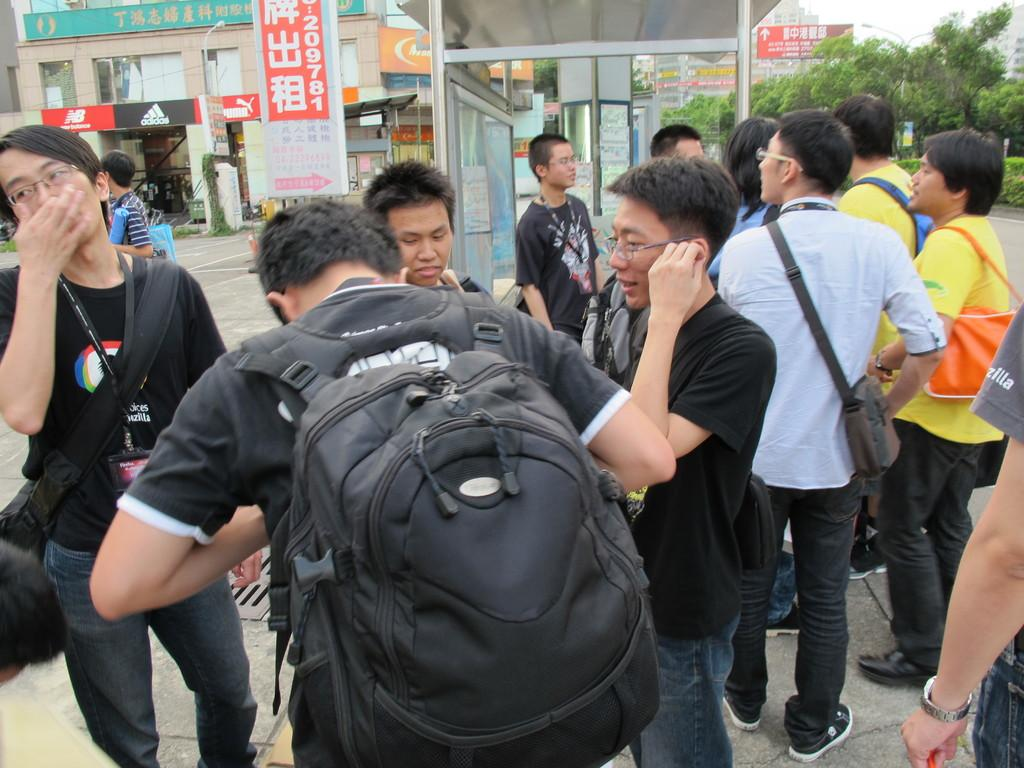Luggage-and-bags: (240, 328, 646, 756), (0, 255, 181, 691), (625, 304, 769, 570), (764, 220, 900, 481), (924, 222, 1023, 399), (844, 176, 938, 262), (149, 221, 178, 257)
